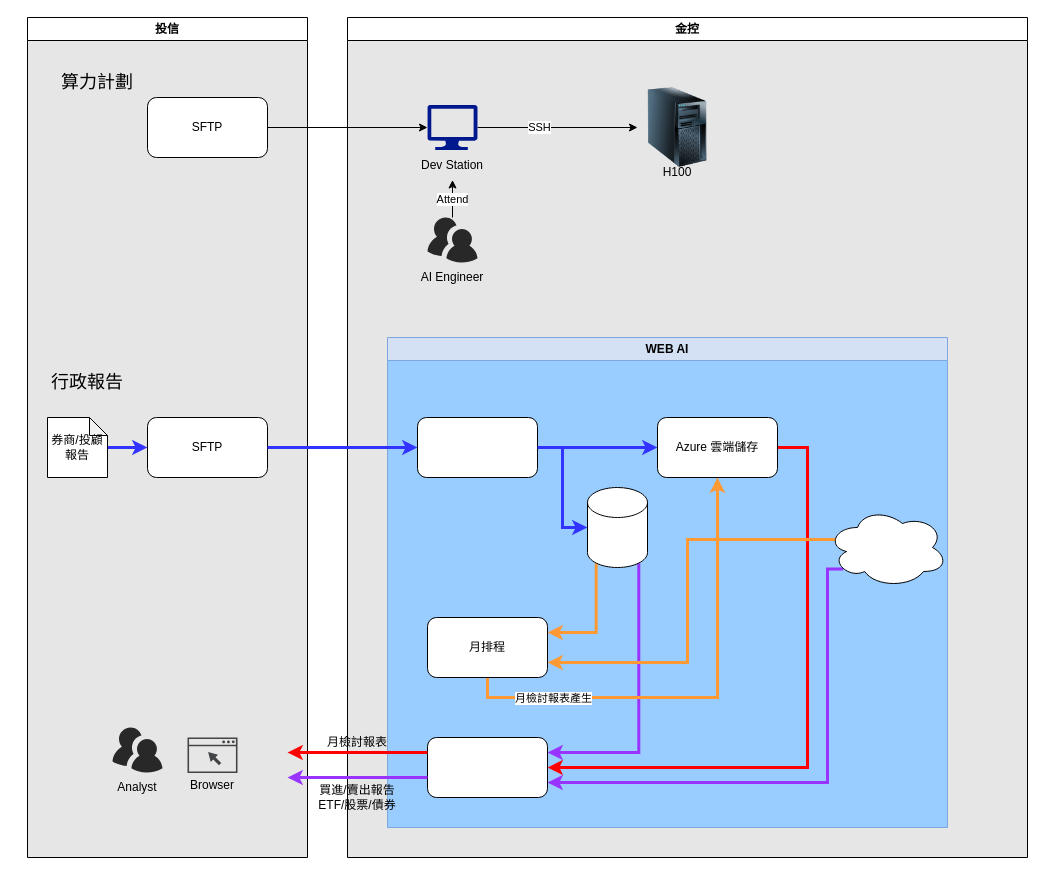
This 1045x875 diagram has some shape labels left out. The centre of each missing label's shape, as x and y in pixels:
KGI AI: pixel 487 767
向量 資料庫: pixel 617 527
日排程: pixel 477 447
網路資訊: pixel 887 547
